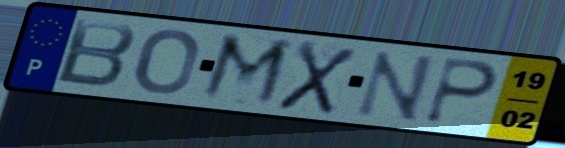B: (52, 16, 141, 90)
M: (195, 30, 297, 111)
N: (351, 49, 440, 124)
O: (132, 27, 201, 96)
P: (420, 55, 502, 127)
X: (272, 38, 361, 117)
